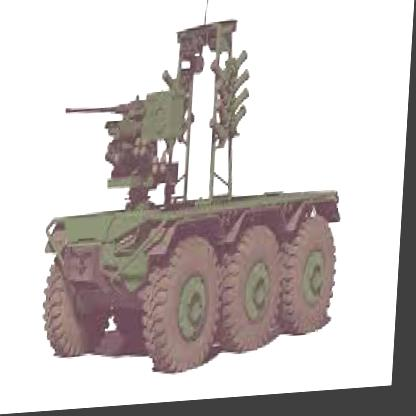UGV: (41, 192, 345, 384)
